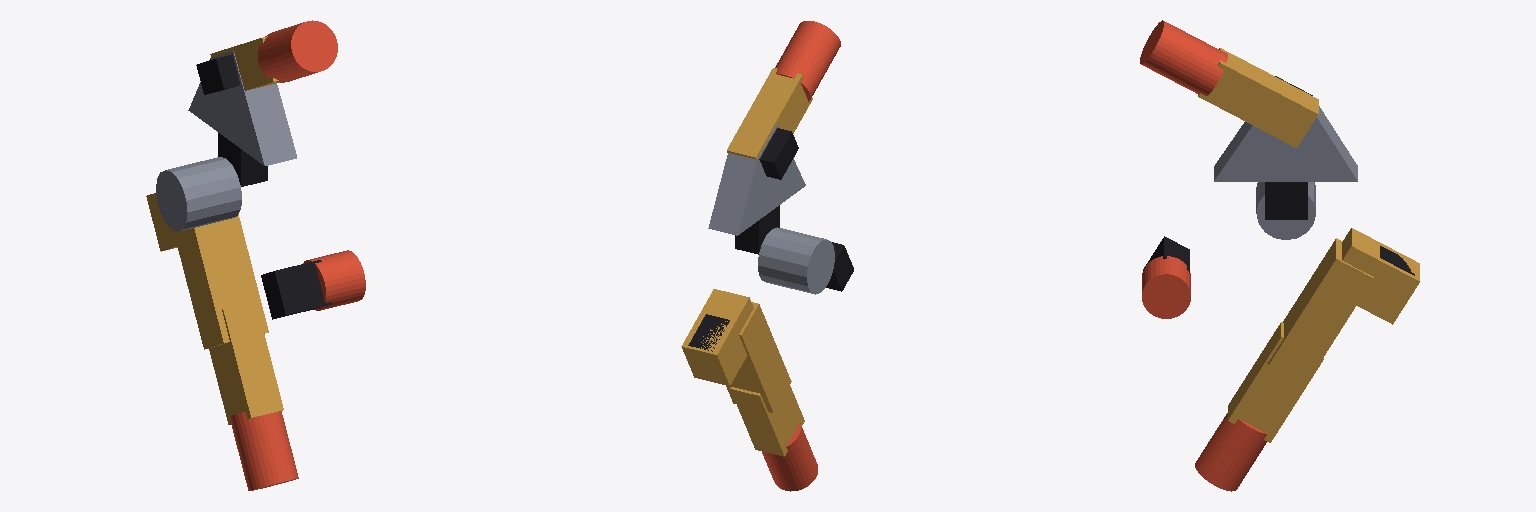
The robot description file, URDF, robot "g0019_c01":
<robot name="g0019_c01">
  <link name="palm">
    <visual name="palm_palm1">
      <origin xyz="0 0 0" rpy="0 0 0" />
      <geometry>
        <mesh filename="palm_palm1.obj" />
      </geometry>
      <material name="palm_palm1_mat">
        <color rgba="0.55 0.57 0.62 1" />
      </material>
    </visual>
    <collision>
      <origin xyz="0 0 0" rpy="0 0 0" />
      <geometry>
        <mesh filename="palm_palm1.obj" />
      </geometry>
    </collision>
    <visual name="palm_mount2">
      <origin xyz="0 0 0" rpy="0 0 0" />
      <geometry>
        <mesh filename="palm_mount2.obj" />
      </geometry>
      <material name="palm_mount2_mat">
        <color rgba="0.55 0.57 0.62 1" />
      </material>
    </visual>
    <collision>
      <origin xyz="0 0 0" rpy="0 0 0" />
      <geometry>
        <mesh filename="palm_mount2.obj" />
      </geometry>
    </collision>
    <visual name="palm_hinge3">
      <origin xyz="0 -1.37772765e-18 0.0225" rpy="-1.57079633 -6.123234e-17 1.57079633" />
      <geometry>
        <box size="0.029 0.034 0.02" />
      </geometry>
      <material name="palm_hinge3_mat">
        <color rgba="0.15 0.15 0.17 1" />
      </material>
    </visual>
    <collision>
      <origin xyz="0 -1.37772765e-18 0.0225" rpy="-1.57079633 -6.123234e-17 1.57079633" />
      <geometry>
        <box size="0.029 0.034 0.02" />
      </geometry>
    </collision>
    <visual name="palm_motor4">
      <origin xyz="-0.007 -0.08 -0.04" rpy="1.06057524e-16 -1.04719755 1.57079633" />
      <geometry>
        <box size="0.029 0.034 0.02" />
      </geometry>
      <material name="palm_motor4_mat">
        <color rgba="0.15 0.15 0.17 1" />
      </material>
    </visual>
    <collision>
      <origin xyz="-0.007 -0.08 -0.04" rpy="1.06057524e-16 -1.04719755 1.57079633" />
      <geometry>
        <box size="0.029 0.034 0.02" />
      </geometry>
    </collision>
    <visual name="palm_motor5">
      <origin xyz="-0.0045 0.0666996732 -0.0467548095" rpy="1.57079633 -0.523598776 -1.57079633" />
      <geometry>
        <box size="0.029 0.034 0.02" />
      </geometry>
      <material name="palm_motor5_mat">
        <color rgba="0.15 0.15 0.17 1" />
      </material>
    </visual>
    <collision>
      <origin xyz="-0.0045 0.0666996732 -0.0467548095" rpy="1.57079633 -0.523598776 -1.57079633" />
      <geometry>
        <box size="0.029 0.034 0.02" />
      </geometry>
    </collision>
    <inertial>
      <origin xyz="0 -0.000220541409 -0.023493937" rpy="-1.57079633 -0.0300064506 -1.57079633" />
      <mass value="0.589876257" />
      <inertia ixx="0.000411079846" ixy="0" ixz="0" iyy="0.00125893441" iyz="0" izz="0.00161338614" />
    </inertial>
  </link>
  <link name="palm0">
    <visual name="palm0_palm1">
      <origin xyz="0 0 0" rpy="0 0 0" />
      <geometry>
        <mesh filename="palm0_palm1.obj" />
      </geometry>
      <material name="palm0_palm1_mat">
        <color rgba="0.55 0.57 0.62 1" />
      </material>
    </visual>
    <collision>
      <origin xyz="0 0 0" rpy="0 0 0" />
      <geometry>
        <mesh filename="palm0_palm1.obj" />
      </geometry>
    </collision>
    <visual name="palm0_motor2">
      <origin xyz="-0.007 1.8369702e-18 0.05" rpy="3.14159265 -0.523598776 -1.57079633" />
      <geometry>
        <box size="0.029 0.034 0.02" />
      </geometry>
      <material name="palm0_motor2_mat">
        <color rgba="0.15 0.15 0.17 1" />
      </material>
    </visual>
    <collision>
      <origin xyz="-0.007 1.8369702e-18 0.05" rpy="3.14159265 -0.523598776 -1.57079633" />
      <geometry>
        <box size="0.029 0.034 0.02" />
      </geometry>
    </collision>
    <inertial>
      <origin xyz="0 5.0862905e-05 0.0277731013" rpy="-1.57079633 0.0238817169 1.57079633" />
      <mass value="0.149587829" />
      <inertia ixx="4.4982677e-05" ixy="0" ixz="0" iyy="6.96549735e-05" iyz="0" izz="0.000100277219" />
    </inertial>
  </link>
  <link name="f0_link0">
    <visual name="f0_link0_link1">
      <origin xyz="0.019 0 -6.9388939e-18" rpy="-1.57079633 -0 -1.57079633" />
      <geometry>
        <cylinder radius="0.0165" length="0.029" />
      </geometry>
      <material name="f0_link0_link1_mat">
        <color rgba="0.85 0.35 0.25 1" />
      </material>
    </visual>
    <collision>
      <origin xyz="0.019 0 -6.9388939e-18" rpy="-1.57079633 -0 -1.57079633" />
      <geometry>
        <cylinder radius="0.0165" length="0.029" />
      </geometry>
    </collision>
    <inertial>
      <origin xyz="0.019 0 0" rpy="0 0 0" />
      <mass value="0.0763354" />
      <inertia ixx="9.49466441e-06" ixy="0" ixz="0" iyy="2.24143997e-05" iyz="0" izz="2.24143997e-05" />
    </inertial>
  </link>
  <link name="f1_link0">
    <visual name="f1_link0_link1">
      <origin xyz="0.0215 0 0" rpy="0 7.03853194e-17 0" />
      <geometry>
        <box size="0.076 0.024 0.029" />
      </geometry>
      <material name="f1_link0_link1_mat">
        <color rgba="0.80 0.62 0.30 1" />
      </material>
    </visual>
    <collision>
      <origin xyz="0.0215 0 0" rpy="0 7.03853194e-17 0" />
      <geometry>
        <box size="0.076 0.024 0.029" />
      </geometry>
    </collision>
    <inertial>
      <origin xyz="0.0215 0 0" rpy="0 0 0" />
      <mass value="0.092568" />
      <inertia ixx="1.0930738e-05" ixy="0" ixz="0" iyy="5.1043538e-05" iyz="0" izz="4.8999328e-05" />
    </inertial>
  </link>
  <link name="f1_link1">
    <visual name="f1_link1_link1">
      <origin xyz="0.029 0 6.9388939e-18" rpy="-1.57079633 -0 -1.57079633" />
      <geometry>
        <cylinder radius="0.0165" length="0.049" />
      </geometry>
      <material name="f1_link1_link1_mat">
        <color rgba="0.85 0.35 0.25 1" />
      </material>
    </visual>
    <collision>
      <origin xyz="0.029 0 6.9388939e-18" rpy="-1.57079633 -0 -1.57079633" />
      <geometry>
        <cylinder radius="0.0165" length="0.049" />
      </geometry>
    </collision>
    <inertial>
      <origin xyz="0.029 0 0" rpy="0 0 0" />
      <mass value="0.106270851" />
      <inertia ixx="1.35696277e-05" ixy="0" ixz="0" iyy="5.30015704e-05" iyz="0" izz="5.30015704e-05" />
    </inertial>
  </link>
  <link name="f2_link0">
    <visual name="f2_link0_link1">
      <origin xyz="-0.00625 0 -0.0165" rpy="0 4.06369831e-17 0" />
      <geometry>
        <box size="0.0365 0.029 0.053" />
      </geometry>
      <material name="f2_link0_link1_mat">
        <color rgba="0.80 0.62 0.30 1" />
      </material>
    </visual>
    <collision>
      <origin xyz="-0.00625 0 -0.0165" rpy="0 4.06369831e-17 0" />
      <geometry>
        <box size="0.0365 0.029 0.053" />
      </geometry>
    </collision>
    <inertial>
      <origin xyz="-0.00625 0 -0.0165" rpy="0 0 0" />
      <mass value="0.098175875" />
      <inertia ixx="2.98618286e-05" ixy="0" ixz="0" iyy="3.38809035e-05" iyz="0" izz="1.778006e-05" />
    </inertial>
  </link>
  <link name="f2_link1">
    <visual name="f2_link1_link1">
      <origin xyz="0.03375 0 6.9388939e-18" rpy="0 4.06369831e-17 0" />
      <geometry>
        <box size="0.0915 0.033 0.029" />
      </geometry>
      <material name="f2_link1_link1_mat">
        <color rgba="0.80 0.62 0.30 1" />
      </material>
    </visual>
    <collision>
      <origin xyz="0.03375 0 6.9388939e-18" rpy="0 4.06369831e-17 0" />
      <geometry>
        <box size="0.0915 0.033 0.029" />
      </geometry>
    </collision>
    <inertial>
      <origin xyz="0.03375 0 0" rpy="0 0 0" />
      <mass value="0.153239625" />
      <inertia ixx="2.46460397e-05" ixy="0" ixz="0" iyy="0.000117652915" iyz="0" izz="0.000120819867" />
    </inertial>
  </link>
  <link name="f2_link2">
    <visual name="f2_link2_link1">
      <origin xyz="0.02375 0 -1.38777878e-17" rpy="0 4.06369831e-17 0" />
      <geometry>
        <box size="0.0715 0.024 0.033" />
      </geometry>
      <material name="f2_link2_link1_mat">
        <color rgba="0.80 0.62 0.30 1" />
      </material>
    </visual>
    <collision>
      <origin xyz="0.02375 0 -1.38777878e-17" rpy="0 4.06369831e-17 0" />
      <geometry>
        <box size="0.0715 0.024 0.033" />
      </geometry>
    </collision>
    <inertial>
      <origin xyz="0.02375 0 0" rpy="0 0 0" />
      <mass value="0.099099" />
      <inertia ixx="1.37499863e-05" ixy="0" ixz="0" iyy="5.12114728e-05" iyz="0" izz="4.69749906e-05" />
    </inertial>
  </link>
  <link name="f2_link3">
    <visual name="f2_link3_link1">
      <origin xyz="0.029 0 3.46944695e-18" rpy="-1.57079633 -0 -1.57079633" />
      <geometry>
        <cylinder radius="0.0165" length="0.049" />
      </geometry>
      <material name="f2_link3_link1_mat">
        <color rgba="0.85 0.35 0.25 1" />
      </material>
    </visual>
    <collision>
      <origin xyz="0.029 0 3.46944695e-18" rpy="-1.57079633 -0 -1.57079633" />
      <geometry>
        <cylinder radius="0.0165" length="0.049" />
      </geometry>
    </collision>
    <inertial>
      <origin xyz="0.029 0 0" rpy="0 0 0" />
      <mass value="0.106270851" />
      <inertia ixx="1.35696277e-05" ixy="0" ixz="0" iyy="5.30015704e-05" iyz="0" izz="5.30015704e-05" />
    </inertial>
  </link>
  <joint name="palm0_joint" type="revolute">
    <parent link="palm" />
    <child link="palm0" />
    <origin xyz="0 -1.8369702e-18 0.03" rpy="0 0 0" />
    <axis xyz="0 1 6.123234e-17" />
    <limit effort="0.5" lower="-0.523598776" upper="0.523598776" velocity="5" />
    <dynamics damping="0.0775033" friction="0" />
  </joint>
  <joint name="f0_j0" type="revolute">
    <parent link="palm" />
    <child link="f0_link0" />
    <origin xyz="0.0005 -0.08 -0.04" rpy="1.04719755 5.30287619e-17 -3.061617e-17" />
    <axis xyz="0 1 6.123234e-17" />
    <limit effort="0.5" lower="-0.523598776" upper="0.523598776" velocity="5" />
    <dynamics damping="0.0775033" friction="0" />
  </joint>
  <joint name="f1_j0" type="revolute">
    <parent link="palm0" />
    <child link="f1_link0" />
    <origin xyz="0.0005 1.8369702e-18 0.05" rpy="-0 -0.523598776 -1.57079633" />
    <axis xyz="1 0 6.123234e-17" />
    <limit effort="0.5" lower="-1.57079633" upper="1.57079633" velocity="5" />
    <dynamics damping="0.0775033" friction="0" />
  </joint>
  <joint name="f1_j1" type="revolute">
    <parent link="f1_link0" />
    <child link="f1_link1" />
    <origin xyz="0.05 0 0" rpy="0 0 0" />
    <axis xyz="0 0 1" />
    <limit effort="0.5" lower="-0.523598776" upper="1.57079633" velocity="5" />
    <dynamics damping="0.0775033" friction="0" />
  </joint>
  <joint name="f2_j0" type="revolute">
    <parent link="palm" />
    <child link="f2_link0" />
    <origin xyz="-0.0045 0.04 -0.04" rpy="0 1.04719755 -1.57079633" />
    <axis xyz="0 0 1" />
    <limit effort="0.5" lower="-0.523598776" upper="1.57079633" velocity="5" />
    <dynamics damping="0.0775033" friction="0" />
  </joint>
  <joint name="f2_j1" type="revolute">
    <parent link="f2_link0" />
    <child link="f2_link1" />
    <origin xyz="0 0 0" rpy="0 0 0" />
    <axis xyz="0 1 6.123234e-17" />
    <limit effort="0.5" lower="-0.523598776" upper="0.523598776" velocity="5" />
    <dynamics damping="0.0775033" friction="0" />
  </joint>
  <joint name="f2_j2" type="revolute">
    <parent link="f2_link1" />
    <child link="f2_link2" />
    <origin xyz="0.07 0 0" rpy="0 0 0" />
    <axis xyz="0 0 1" />
    <limit effort="0.5" lower="-0.523598776" upper="1.57079633" velocity="5" />
    <dynamics damping="0.0775033" friction="0" />
  </joint>
  <joint name="f2_j3" type="revolute">
    <parent link="f2_link2" />
    <child link="f2_link3" />
    <origin xyz="0.05 0 0" rpy="0 0 0" />
    <axis xyz="0 0 1" />
    <limit effort="0.5" lower="-0.523598776" upper="1.57079633" velocity="5" />
    <dynamics damping="0.0775033" friction="0" />
  </joint>
</robot>

--- What the picture shows (computed from the rendered views, not written in the file) ---
The picture shows the robot from 3 angles, left to right: view 1: azimuth 30°, elevation 25°; view 2: azimuth 150°, elevation 25°; view 3: azimuth 270°, elevation 25°; orthographic projection.
Model g0019_c01 with 9 links and 8 joints (8 revolute), rooted at palm, posed all joints at 0.
Links seen in each view (by area): view 1: palm, f2_link1, palm0, f2_link2, f2_link3, f1_link1, f0_link0, f1_link0, f2_link0; view 2: palm, palm0, f2_link0, f1_link0, f2_link1, f2_link2, f1_link1, f2_link3; view 3: f2_link1, palm0, f1_link0, palm, f2_link2, f1_link1, f2_link0, f2_link3, f0_link0.
Link boxes in pixels (box(x1,y1,x2,y2)): palm: box(156, 133, 331, 319); f2_link1: box(173, 214, 268, 349); palm0: box(188, 51, 296, 165); f2_link2: box(209, 301, 283, 424); f2_link3: box(229, 411, 298, 490); f1_link1: box(258, 20, 337, 82); f0_link0: box(303, 250, 365, 310); f1_link0: box(210, 36, 279, 90); f2_link0: box(146, 193, 177, 251); palm: box(688, 205, 853, 351); palm0: box(708, 124, 805, 235); f2_link0: box(681, 289, 753, 385); f1_link0: box(727, 68, 812, 159); f2_link1: box(726, 302, 791, 412); f2_link2: box(730, 386, 804, 456); f1_link1: box(775, 21, 840, 101); f2_link3: box(762, 423, 817, 491); f2_link1: box(1268, 238, 1373, 385); palm0: box(1214, 76, 1357, 181); f1_link0: box(1198, 48, 1318, 147); palm: box(1143, 182, 1414, 275); f2_link2: box(1228, 322, 1323, 442); f1_link1: box(1140, 20, 1227, 95); f2_link0: box(1342, 228, 1419, 324); f2_link3: box(1195, 413, 1266, 491); f0_link0: box(1142, 256, 1190, 318).
Size in the robot's own frame: 0.086 by 0.1874 by 0.3445 metres.
2 mesh visuals loaded from 3 distinct referenced files (2 OBJ); not drawn: 1 (reference not matched to a file when rendering).
